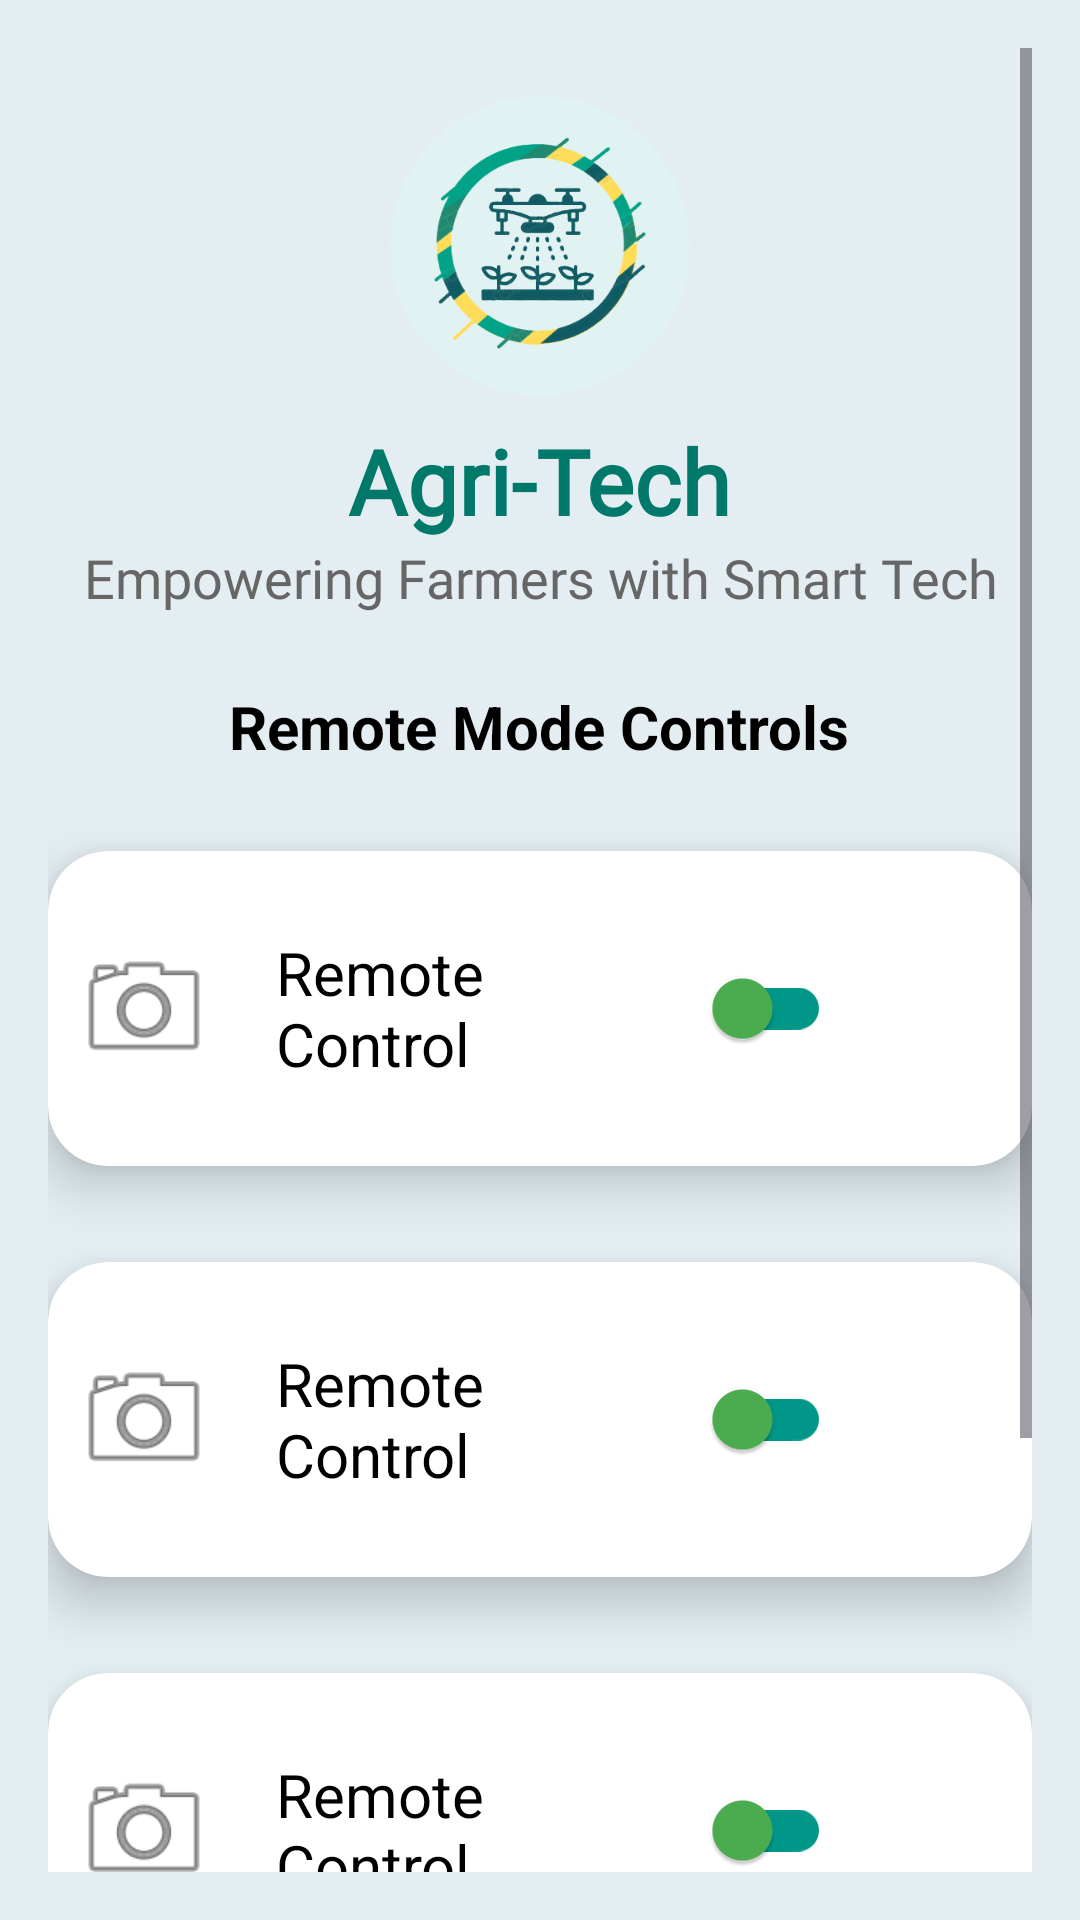

Point at icon controls on the screen. Image size 1080w x 1920h, points as [x,y].
camera: [144,1005], [144,1416], [144,1842]
